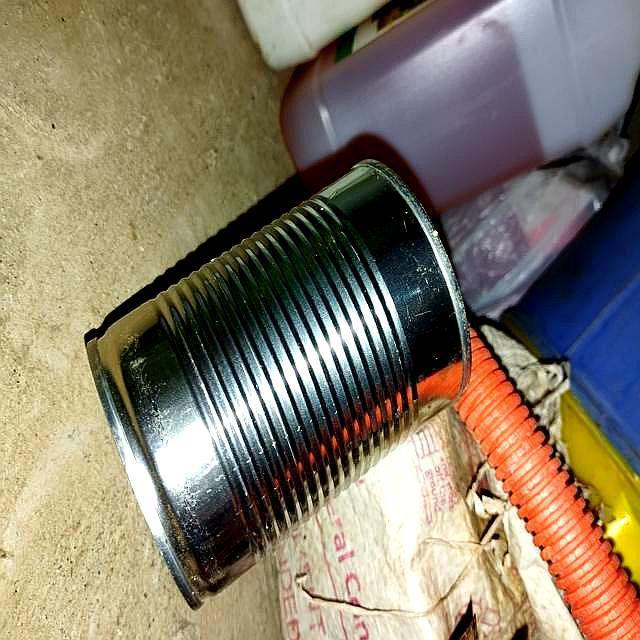Non-biodegradable: (77, 137, 501, 627)
